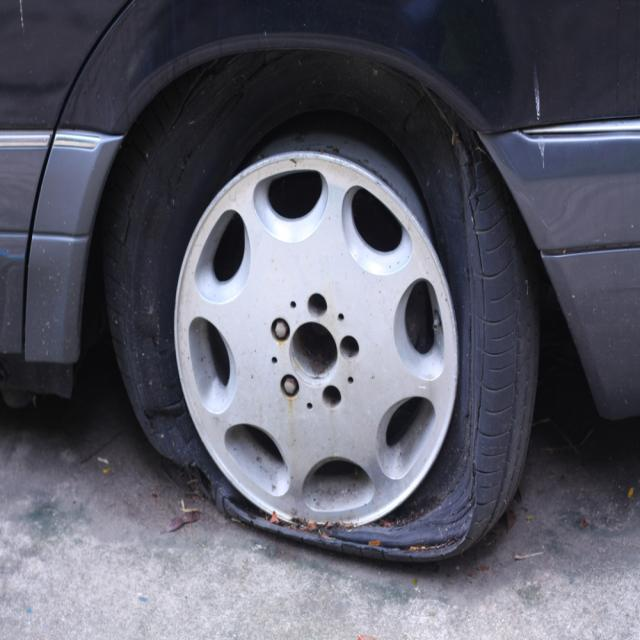tire flat: (104, 51, 541, 566)
